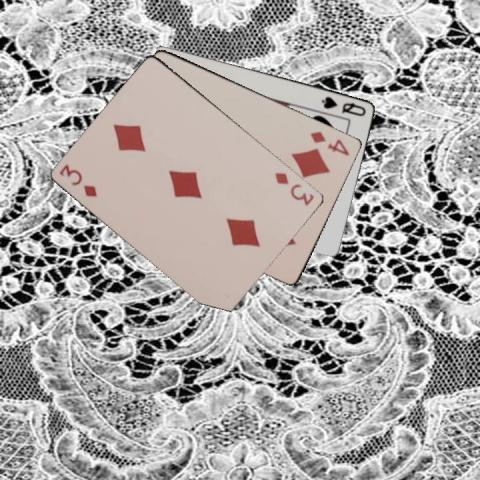3d: (272, 169, 316, 208), (57, 160, 99, 198)
4d: (308, 128, 351, 157)
Qs: (319, 94, 368, 118)
